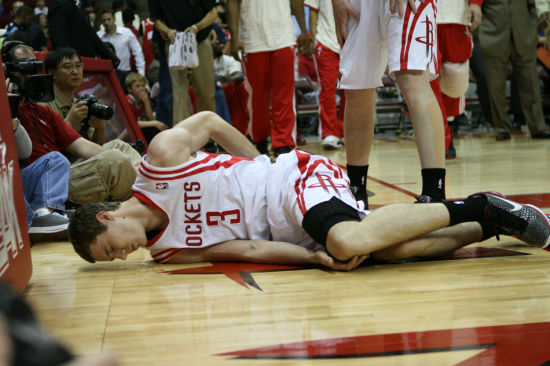10+: (2, 1, 550, 243)
down: (63, 102, 550, 269)
